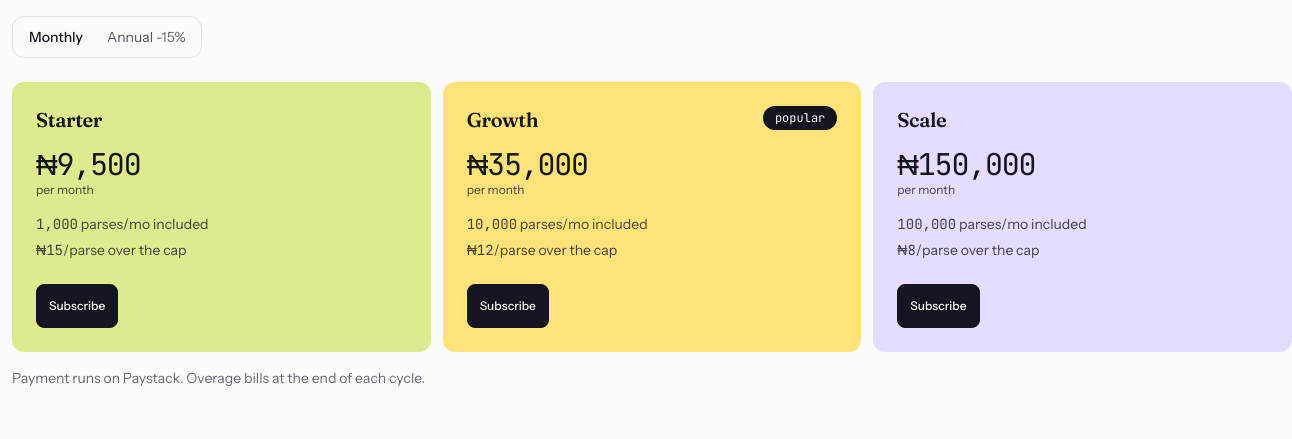
Test: BillingClient › shows an error and does not redirect when checkout init fails
The width and height of the screenshot is (1292, 439).
Click the button "Subscribe" below "1,000".
click(77, 306)  # box x1=36 y1=284 x2=118 y2=328
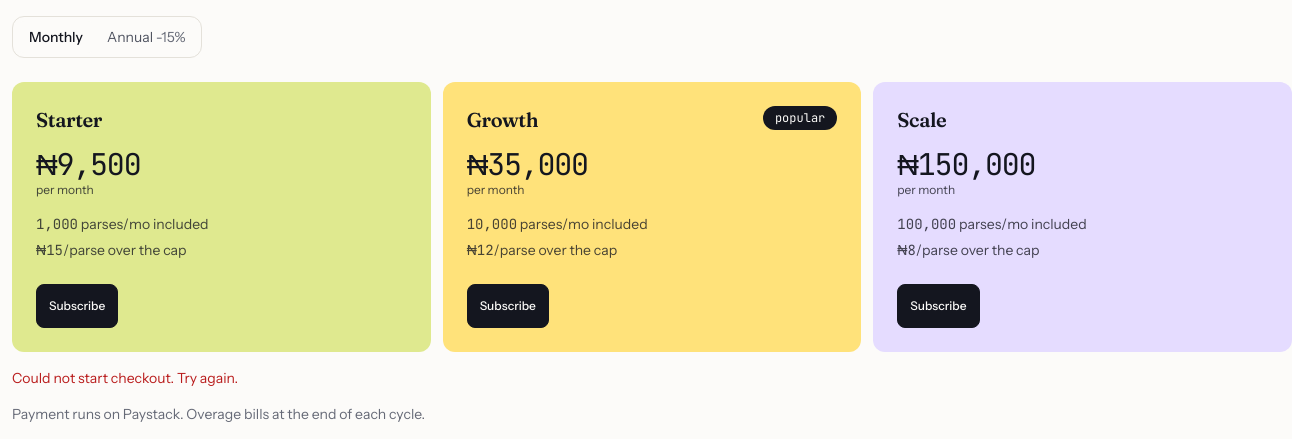
Expected: the text "Could not start checkout. Try again." is shown, x1=12 y1=369 x2=238 y2=387
